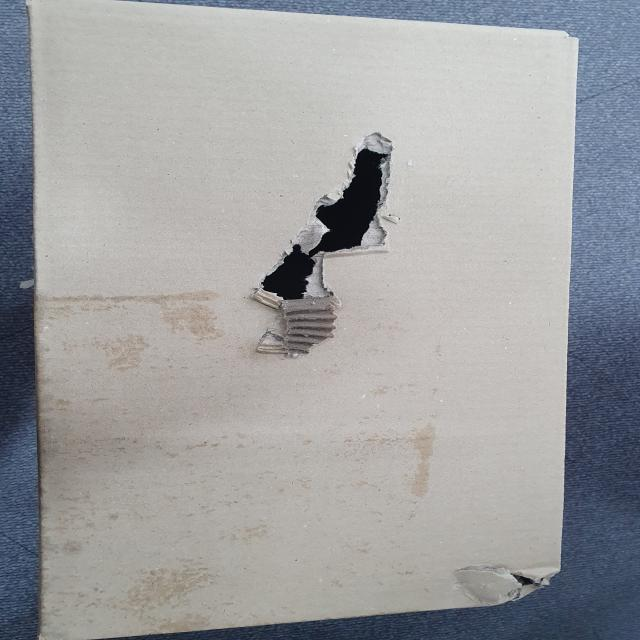hole: (235, 138, 405, 299)
